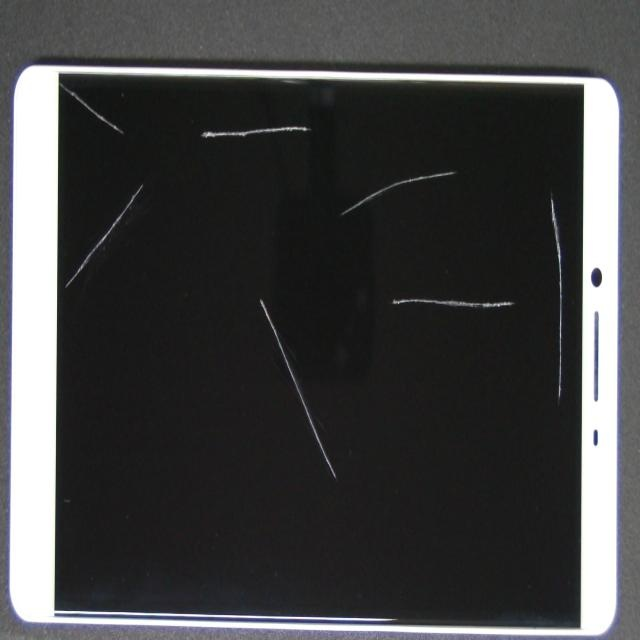scratch: (83, 52, 415, 564), (268, 0, 640, 421), (298, 60, 636, 252), (88, 114, 227, 285), (226, 55, 421, 174), (0, 1, 120, 181)
